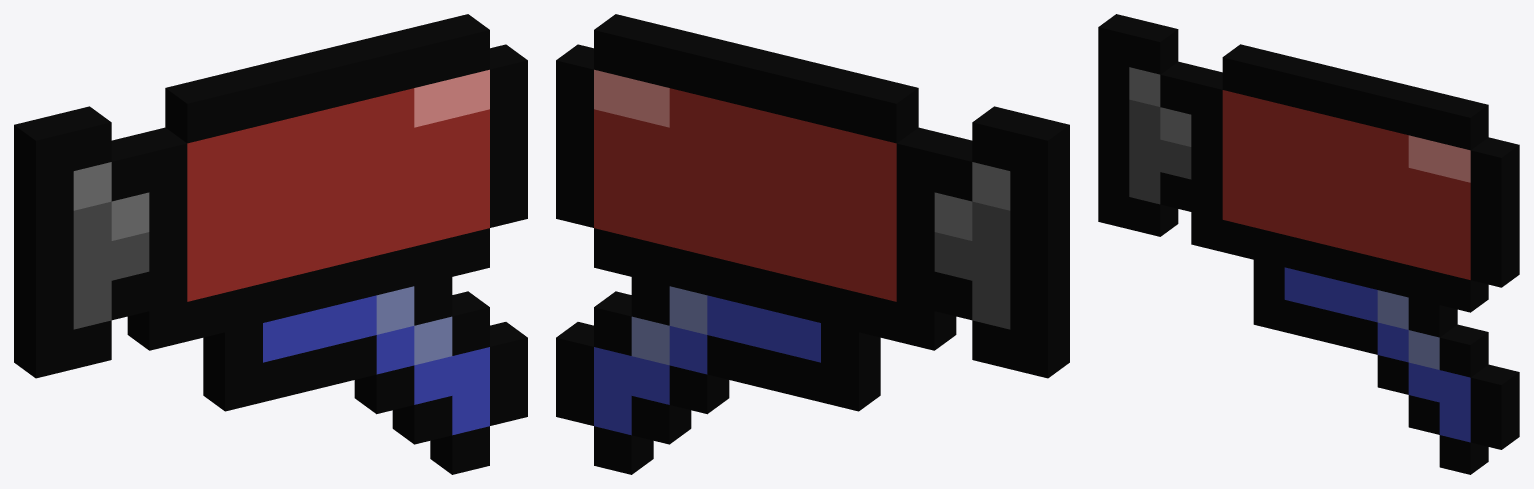
Rendered from Red Paintball Gun.glb.
3 renders of one model, left to right at view 1: azimuth 30°, elevation 25°; view 2: azimuth 150°, elevation 25°; view 3: azimuth 330°, elevation 25°, orthographic. The views are drawn at different scales.
Parts seen in each view (by area): view 1: generated(Clone); view 2: generated(Clone); view 3: generated(Clone).
Boxes of the visible parts, x1,y1,x2,y2 form: generated(Clone): (14,14,527,474); generated(Clone): (556,14,1069,474); generated(Clone): (1098,14,1519,474).
Bounding box in the file's own units: 13 × 11 × 1.
Materials: 1 (1 with a texture image).
